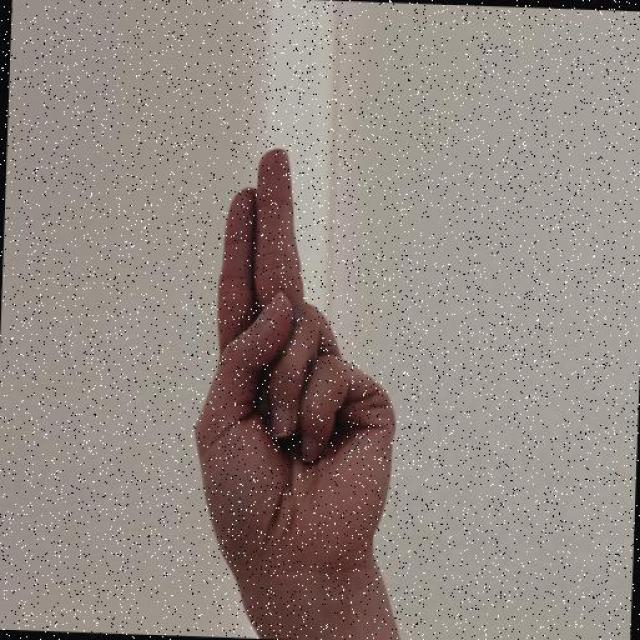U: (184, 142, 410, 572)
